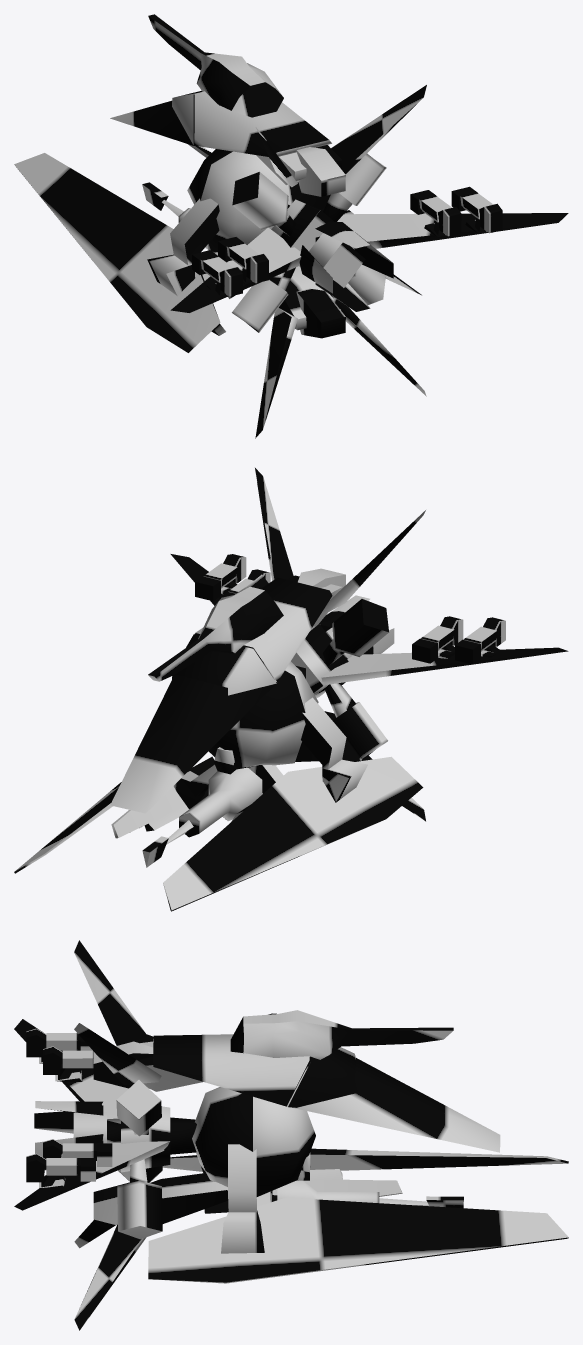
The model's file is pet_8.obj.
3 renders of one model, top to bottom at view 1: azimuth 30°, elevation 25°; view 2: azimuth 150°, elevation 25°; view 3: azimuth 270°, elevation 25°, orthographic.
Visible parts, largest first — view 1: main; view 2: main; view 3: main.
Boxes of the visible parts, box(x1,y1,x2,y2) form: main: box(14, 14, 568, 438); main: box(14, 468, 568, 911); main: box(14, 940, 568, 1330).
Size of the model in its own units: 65.02 by 48.7 by 79.44.
1 material, 1 textured.
